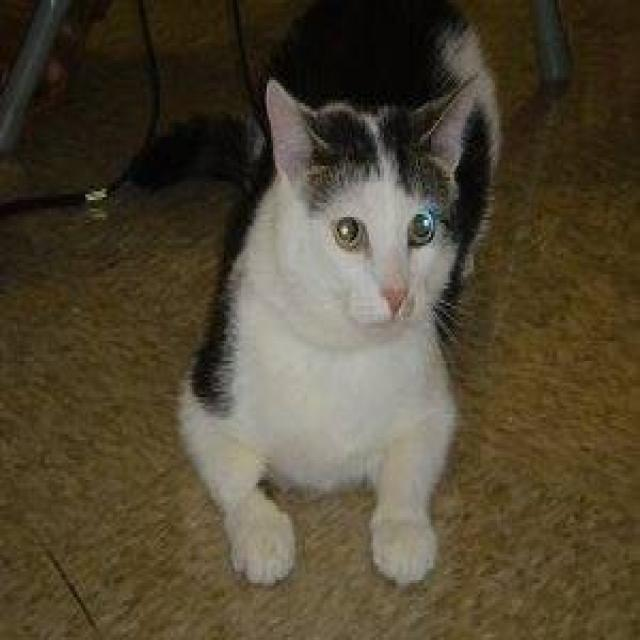cat: (168, 0, 548, 610)
